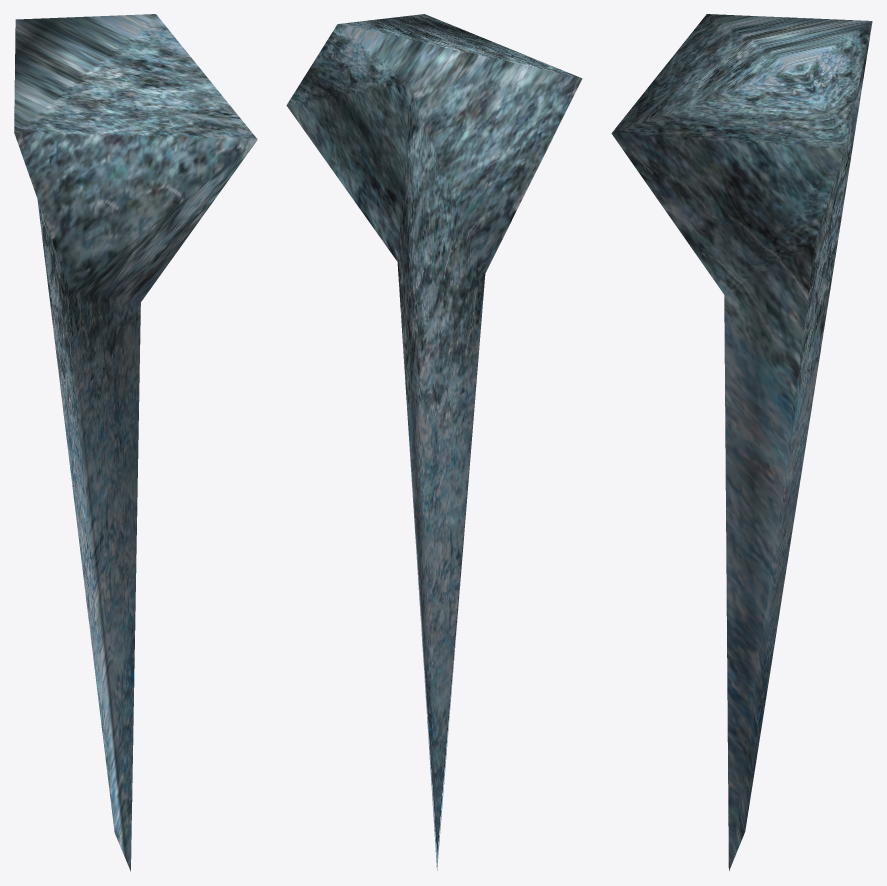
The model's file is thm_all_cave_stalagtite_ice_b2_l2.fbx.
3 renders of one model, left to right at view 1: azimuth 30°, elevation 25°; view 2: azimuth 150°, elevation 25°; view 3: azimuth 270°, elevation 25°, orthographic. The views are drawn at different scales.
Parts seen in each view (by area): view 1: mesh_node; view 2: mesh_node; view 3: mesh_node.
Part boxes in pixels (left/top/right/bottom): mesh_node: left=14, top=14, right=257, bottom=871; mesh_node: left=286, top=14, right=582, bottom=870; mesh_node: left=611, top=14, right=872, bottom=870.
Size of the model in its own units: 1.02 by 3.74 by 1.06.
